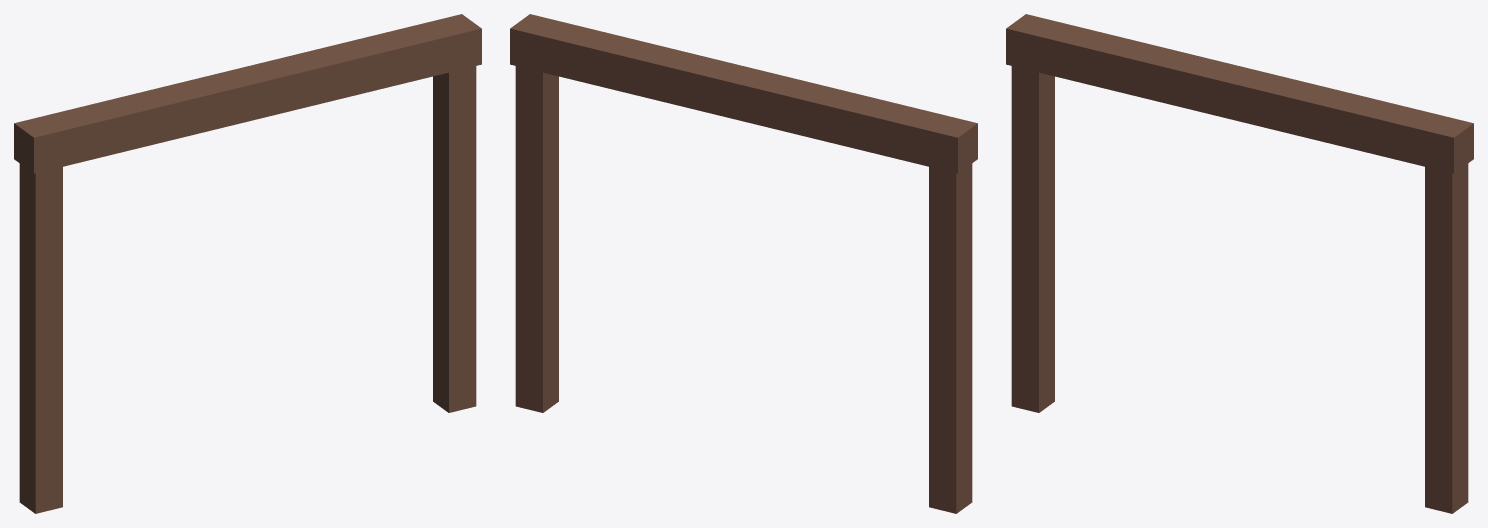
The model's file is arch.glb.
3 renders of one model, left to right at view 1: azimuth 30°, elevation 25°; view 2: azimuth 150°, elevation 25°; view 3: azimuth 330°, elevation 25°, orthographic.
Parts seen in each view (by area): view 1: ArchMesh; view 2: ArchMesh; view 3: ArchMesh.
Boxes of the visible parts, bbox=[...] form: ArchMesh: bbox=[14, 14, 481, 513]; ArchMesh: bbox=[510, 14, 977, 513]; ArchMesh: bbox=[1006, 14, 1473, 513].
Bounding box in the file's own units: 6.5 × 5.25 × 0.4999.
1 material, 1 textured.
